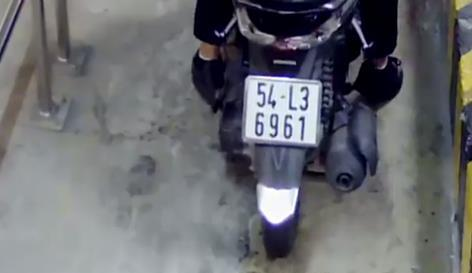lisence: (241, 74, 322, 148)
